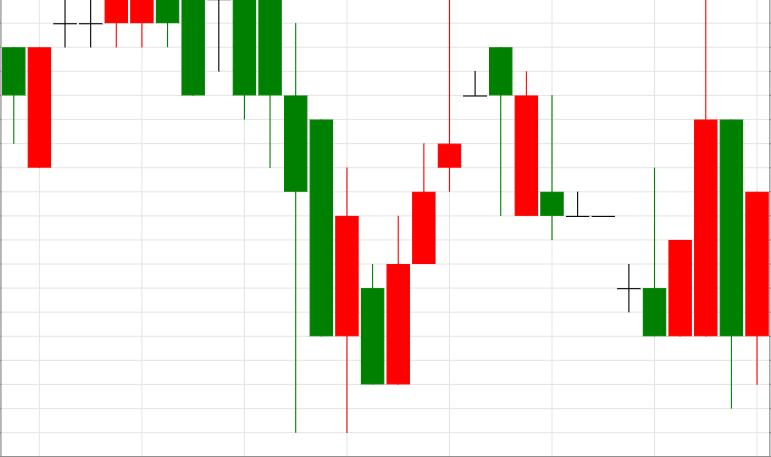bullish_engulfing_rise: (232, 0, 409, 434)
hanging_man_fall: (386, 0, 513, 384)
